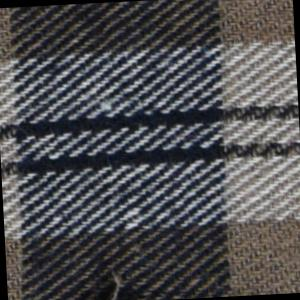Damage: (71, 264, 150, 300)
